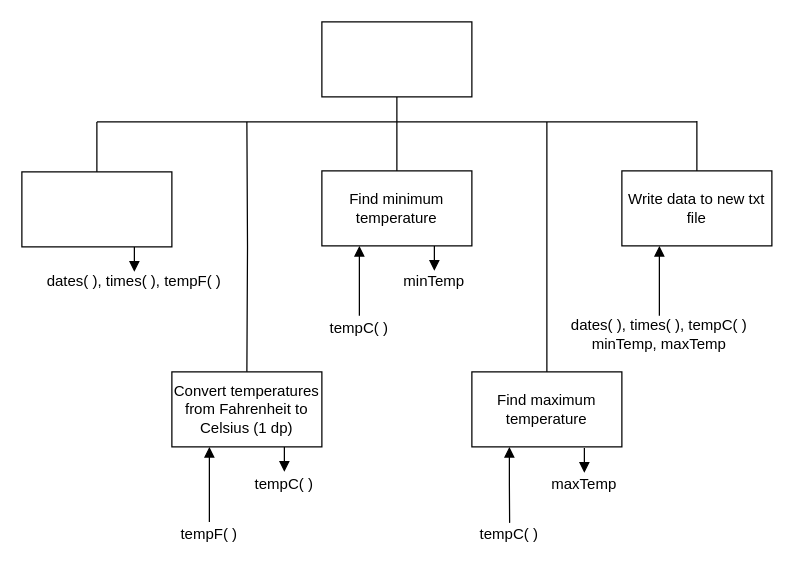
Some shapes in this 794 by 569 pixel diagram are drawn without their labels. Each missing label, with the centre of its shape:
Read data from csv file: the point at 96,209
Temperatures: the point at 396,59
